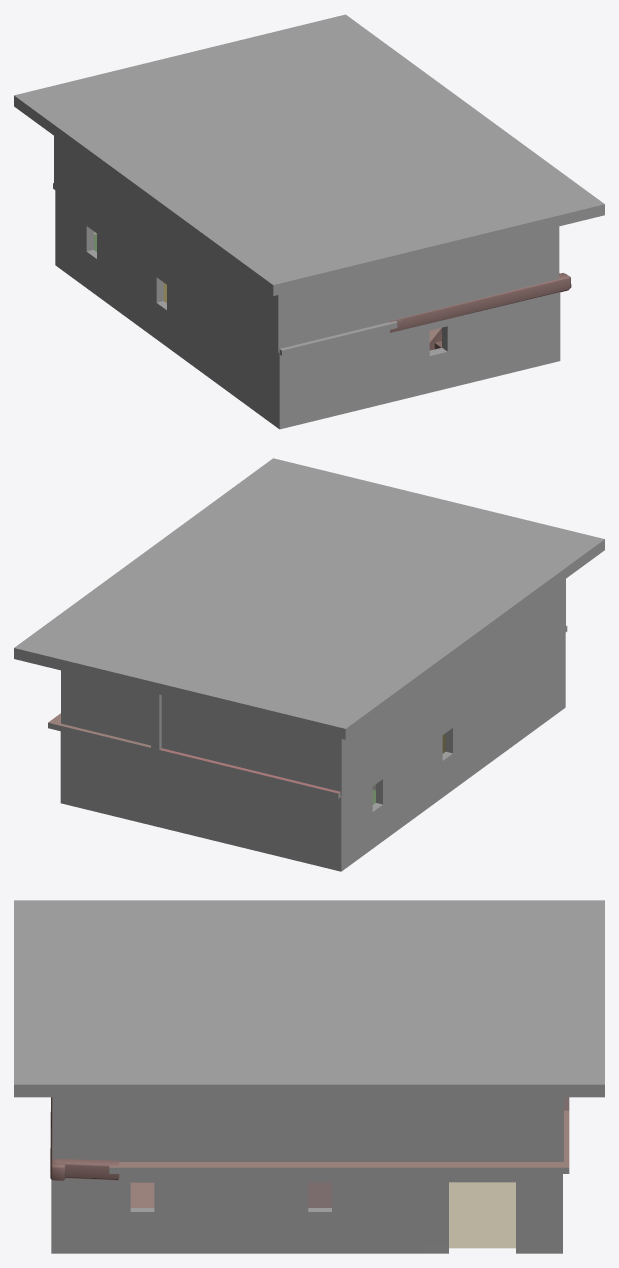
Rendered from House_1.fbx.
3 views of the same model, one above another, from view 1: azimuth 30°, elevation 25°; view 2: azimuth 150°, elevation 25°; view 3: azimuth 270°, elevation 25° (orthographic). The views are drawn at different scales.
Parts seen in each view (by area): view 1: pCube79, polySurface1, polySurface2, pCube77, pCube25; view 2: pCube79, polySurface1, polySurface2, pCube25; view 3: pCube79, polySurface1, polySurface2, pCube25, pPlane9, pCube78, pCube77.
Boxes of the visible parts, x1,y1,x2,y2 form: pCube79: (14, 14, 604, 295); polySurface1: (55, 190, 560, 429); polySurface2: (54, 136, 559, 352); pCube77: (389, 273, 571, 332); pCube25: (53, 183, 397, 355); pCube79: (14, 458, 604, 739); polySurface1: (60, 632, 565, 871); polySurface2: (61, 579, 565, 795); pCube25: (48, 625, 567, 798); pCube79: (14, 900, 604, 1097); polySurface1: (51, 1174, 562, 1253); polySurface2: (52, 1097, 563, 1161); pCube25: (109, 1097, 569, 1173); pPlane9: (130, 1182, 515, 1248); pCube78: (55, 1158, 119, 1180); pCube77: (50, 1097, 65, 1180).
Bounding box in the file's own units: 16.49 × 8.35 × 22.32.
